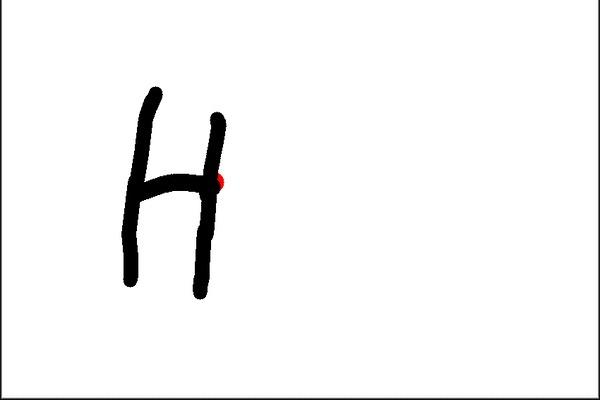H: (113, 82, 232, 303)
